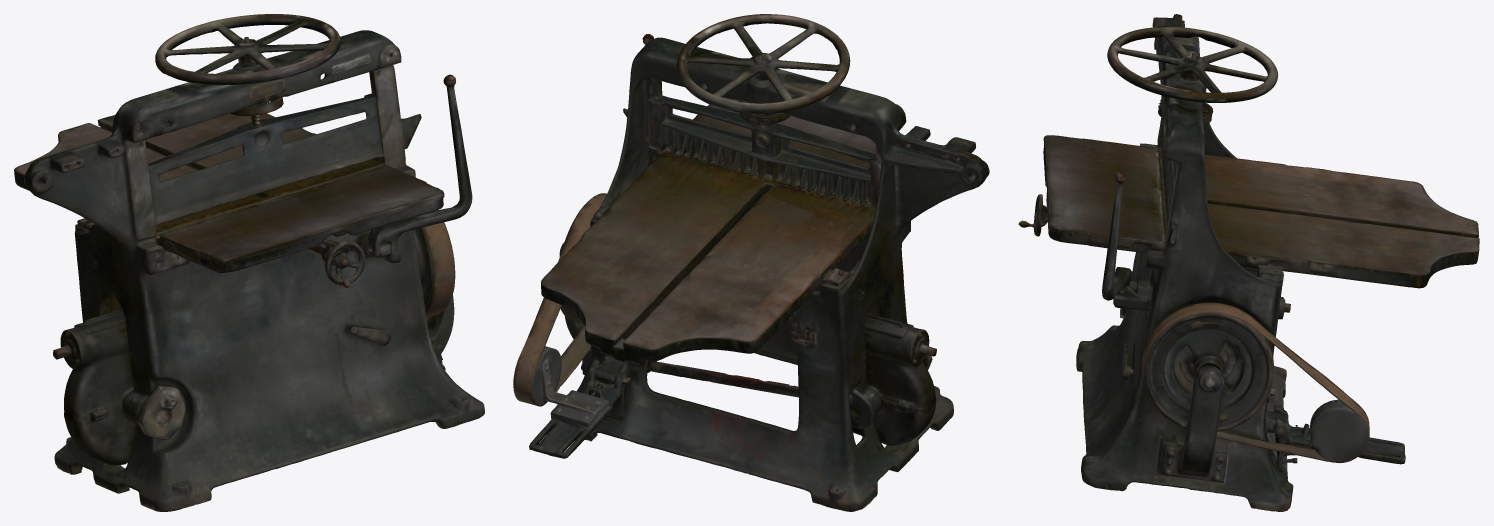
File: preview.glb
3 views of the same model, side by side, from view 1: azimuth 30°, elevation 25°; view 2: azimuth 150°, elevation 25°; view 3: azimuth 270°, elevation 25° (orthographic). The views are drawn at different scales.
Bounding box in the file's own units: 1650 × 1552 × 1636.
Materials: 1 (1 with a texture image).
